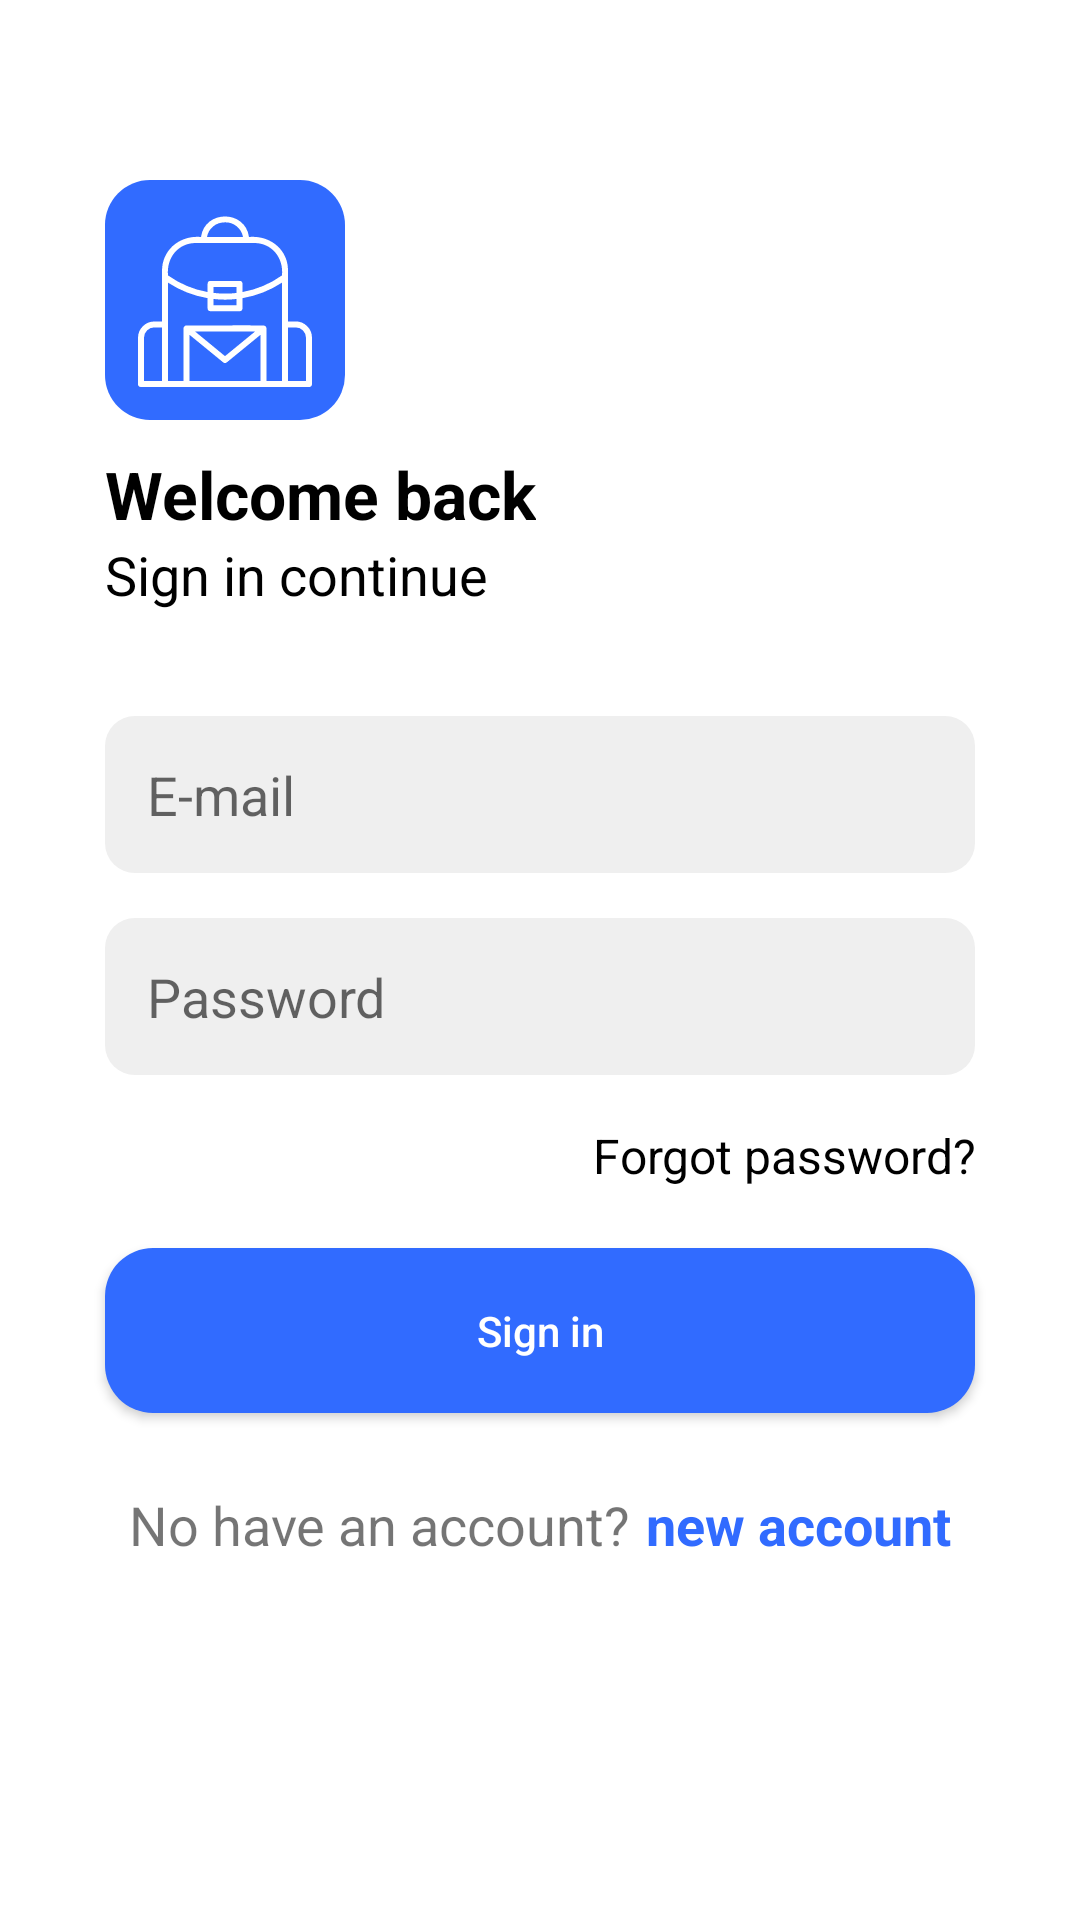

Icons on this 1080w x 1920h Android screen, each with its box as (x1, y1, x2, y2):
bag: (105, 180, 345, 420)
